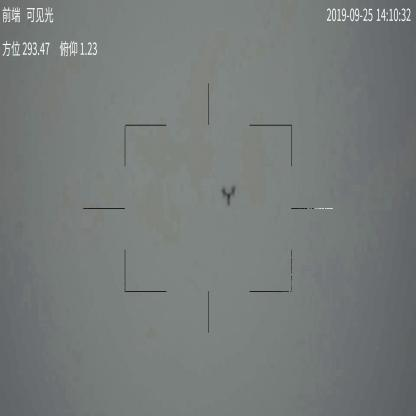uav: (221, 184, 236, 207)
